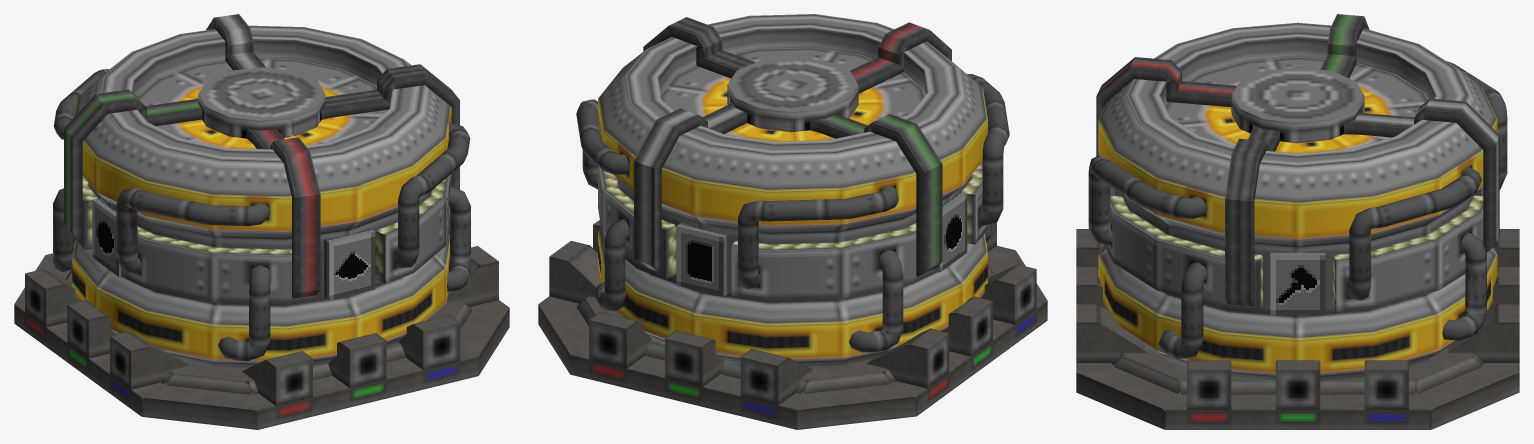
Rendered from cyclotron.obj.
3 renders of one model, left to right at view 1: azimuth 30°, elevation 25°; view 2: azimuth 150°, elevation 25°; view 3: azimuth 270°, elevation 25°, orthographic. The views are drawn at different scales.
Visible parts, largest first — view 1: Body, B1, B4; view 2: Body, B2, B4; view 3: Body, B3.
Part boxes in pixels (x1=…): Body: x1=14, y1=14, x2=509, y2=429; B1: x1=324, y1=228, x2=375, y2=300; B4: x1=92, y1=197, x2=120, y2=276; Body: x1=538, y1=14, x2=1047, y2=429; B2: x1=676, y1=222, x2=729, y2=296; B4: x1=938, y1=191, x2=967, y2=272; Body: x1=1076, y1=14, x2=1519, y2=429; B3: x1=1270, y1=250, x2=1325, y2=315.
Size of the model in its own units: 5 by 3.12 by 5.
